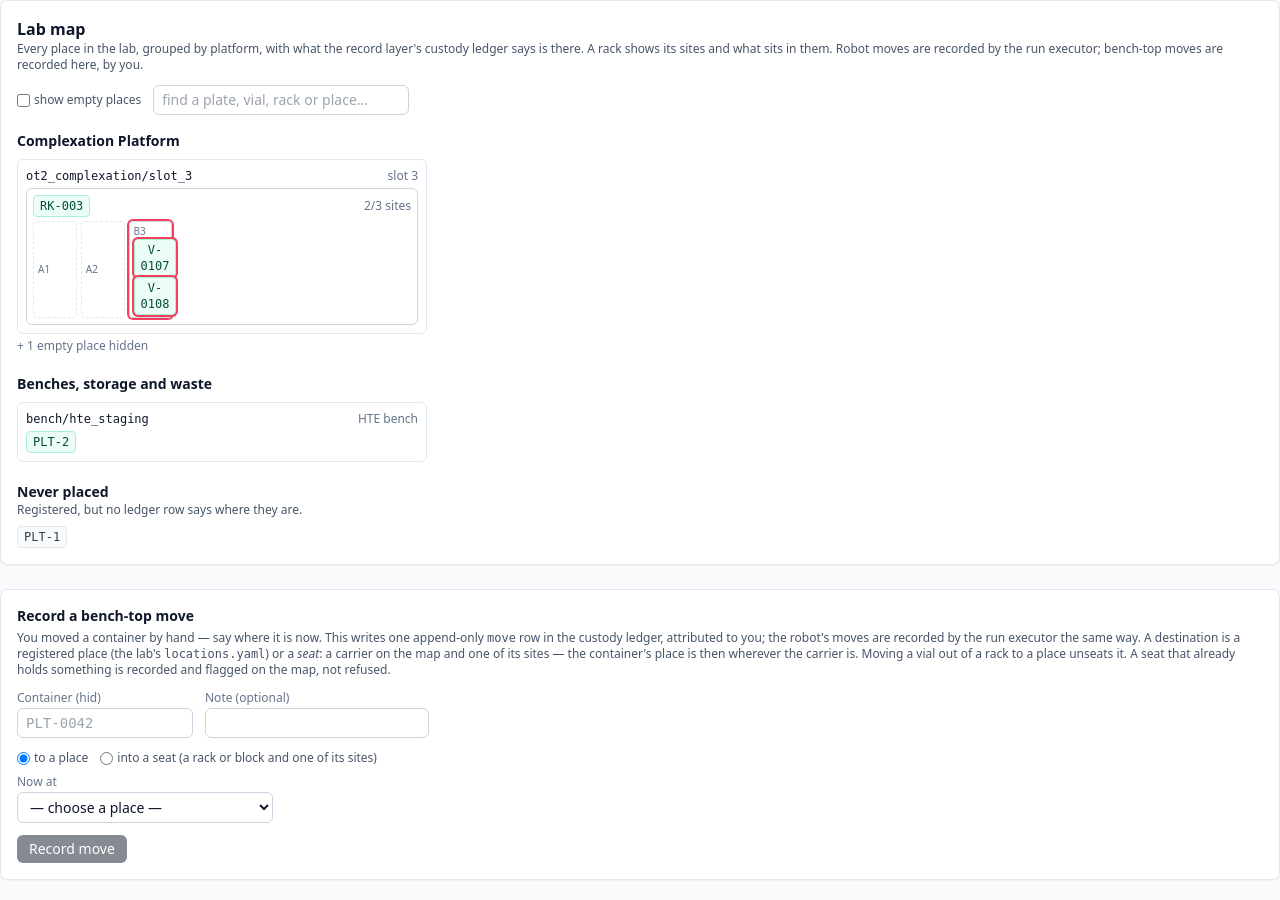
it: PlatesPanel (lab map) › renders places by platform, a rack as a grid of sites, and flags a double-booked seat
The width and height of the screenshot is (1280, 900).
expect the heading "Complexation Platform" is shown: met, box 17,131 -> 180,150
expect the heading "Benches, storage and waste" is shown: met, box 17,374 -> 212,393
Click the checkbox labelled "show empty places": x=24, y=100 17,94 -> 30,106
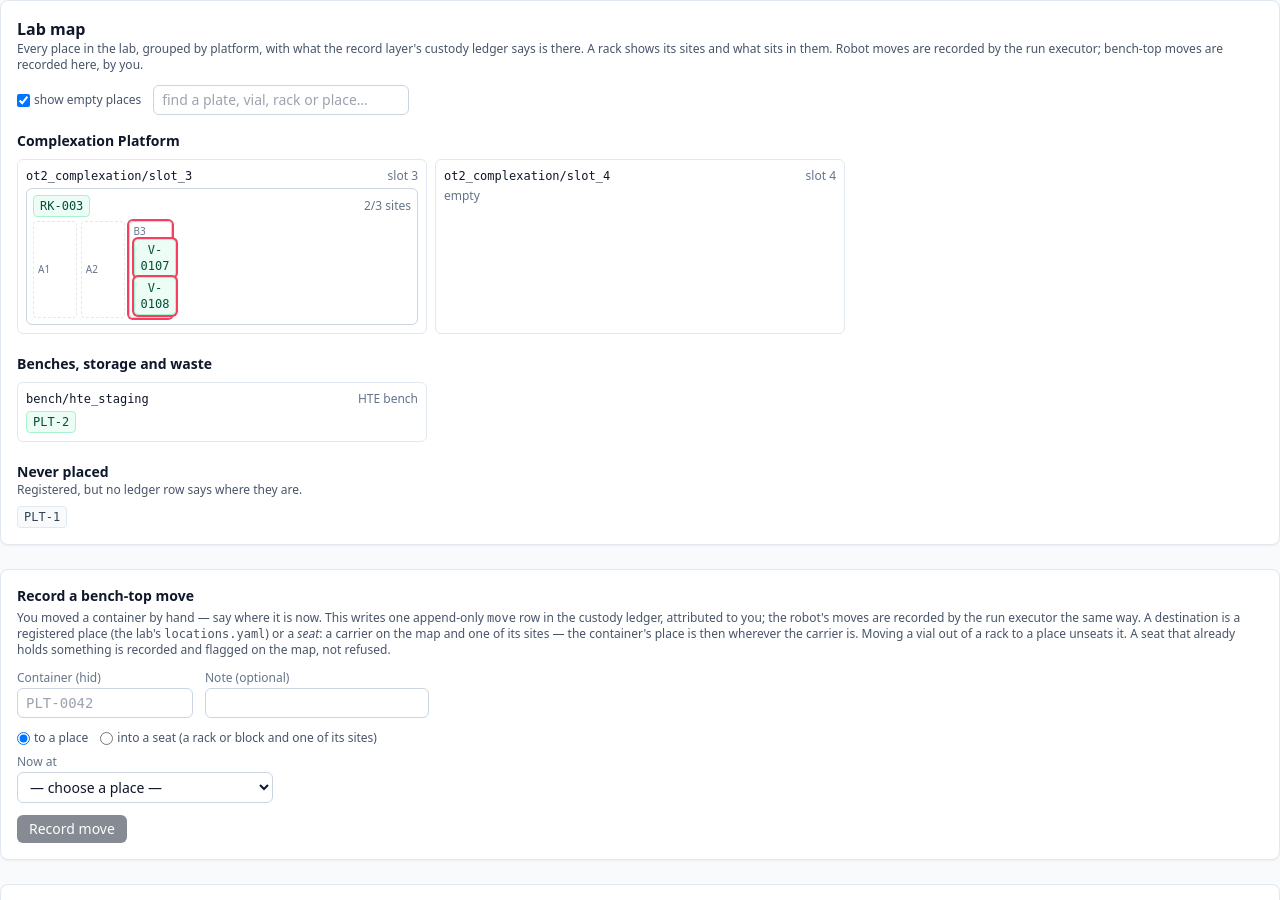
expect the element with test id "place-ot2_complexation/slot_4" is shown: met, box 435,159 -> 845,334
